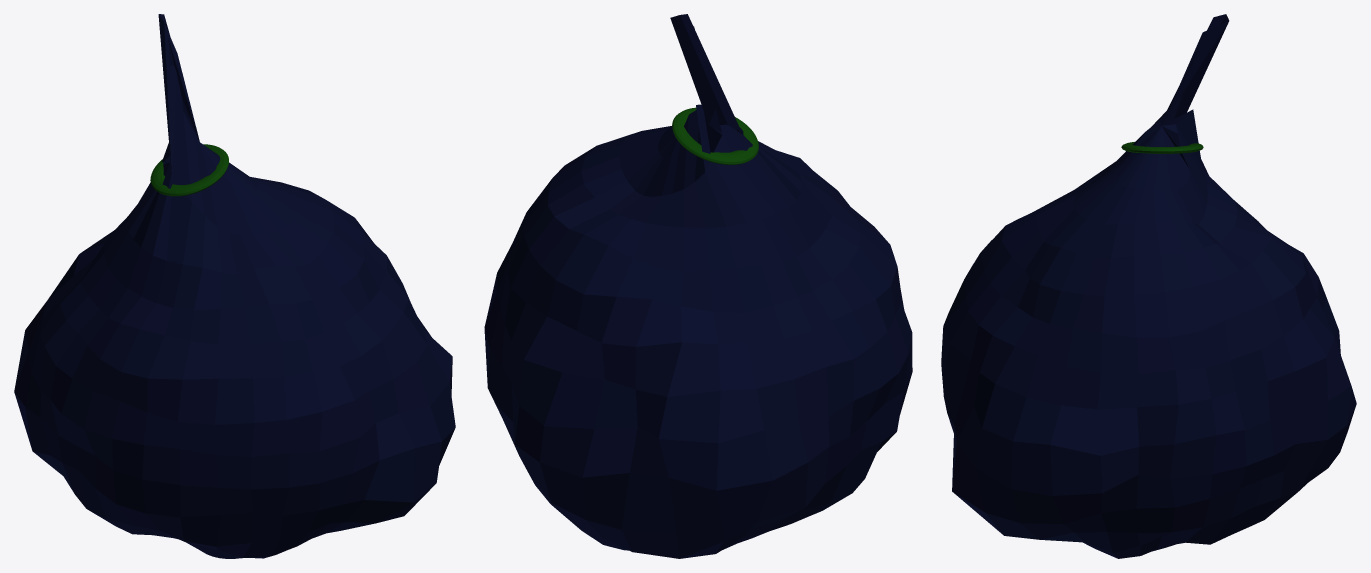
Rendered from SacoLixo1.fbx.
3 renders of one model, left to right at view 1: azimuth 30°, elevation 25°; view 2: azimuth 150°, elevation 25°; view 3: azimuth 270°, elevation 25°, orthographic. The views are drawn at different scales.
Parts seen in each view (by area): view 1: Sphere, Torus; view 2: Sphere, Torus; view 3: Sphere, Torus.
Part boxes in pixels (box(x1,y1,x2,y2)): Sphere: box(14, 14, 455, 558); Torus: box(150, 144, 228, 196); Sphere: box(484, 14, 912, 558); Torus: box(672, 107, 758, 164); Sphere: box(941, 14, 1356, 558); Torus: box(1121, 142, 1203, 153).
Bounding box in the file's own units: 257 × 349 × 261.
Materials: 2 (1 with a texture image).
